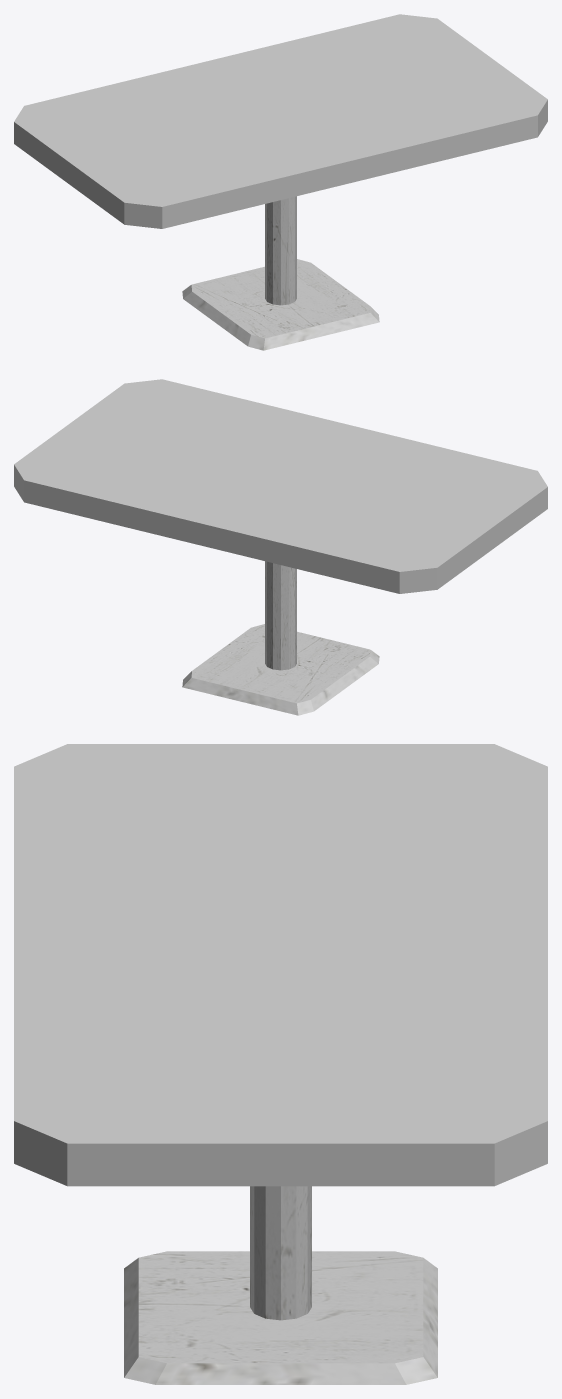
File: table.glb
The picture shows the model from 3 angles, top to bottom: view 1: azimuth 30°, elevation 25°; view 2: azimuth 150°, elevation 25°; view 3: azimuth 270°, elevation 25°; orthographic projection. The views are drawn at different scales.
Parts seen in each view (by area): view 1: fbx_hamburger_table.1; view 2: fbx_hamburger_table.1; view 3: fbx_hamburger_table.1.
Part boxes in pixels (x1,y1,x2,y2): fbx_hamburger_table.1: (14, 14, 547, 350); fbx_hamburger_table.1: (14, 379, 547, 715); fbx_hamburger_table.1: (14, 744, 547, 1384).
Bounding box in the file's own units: 4.07 × 1.8 × 2.3.
Materials: 2 (2 with a texture image).
